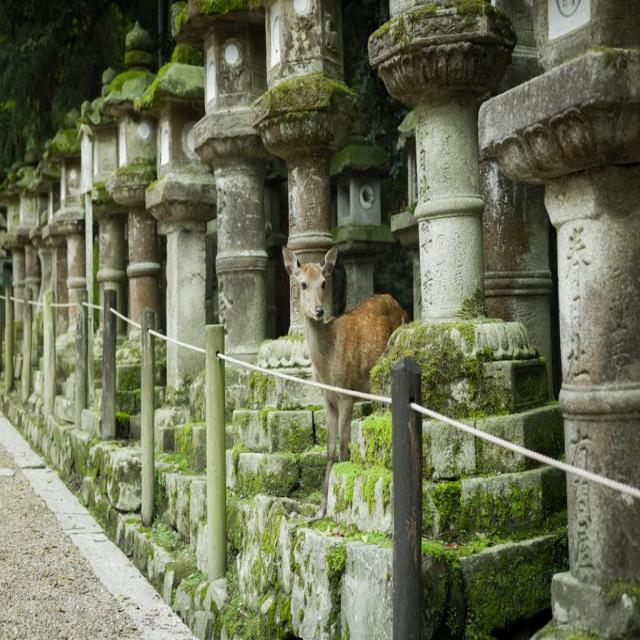Deer: (283, 245, 406, 521)
